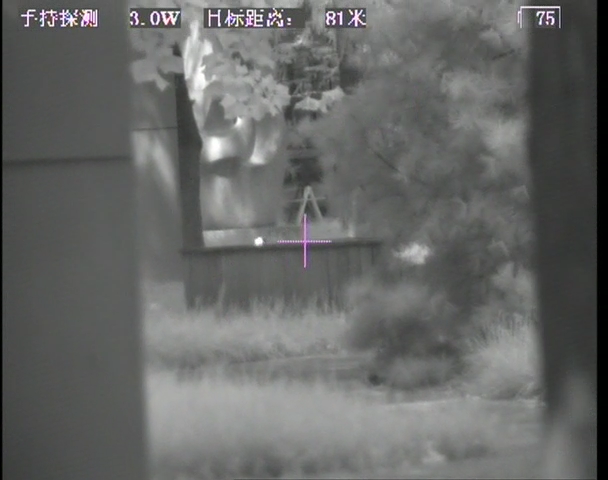my: (250, 234, 265, 249)
